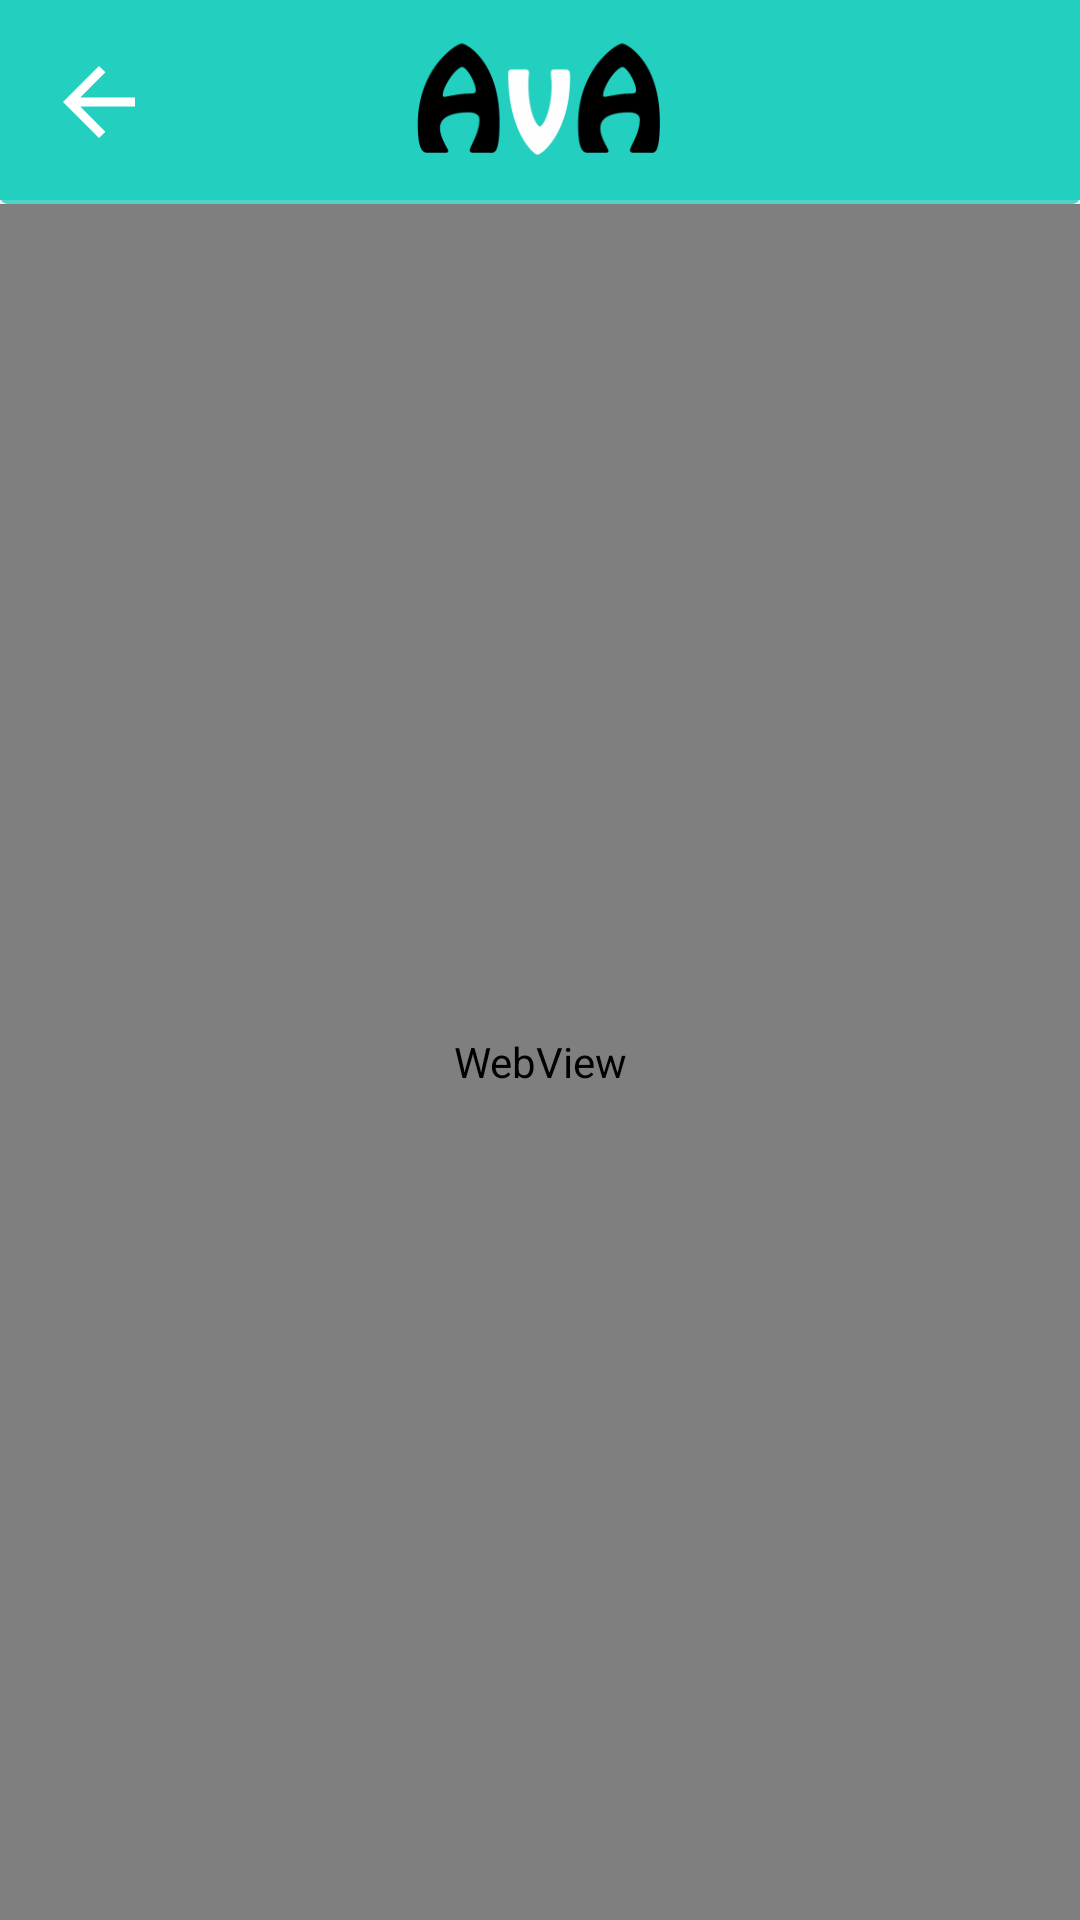

Where icons sit on this 1080*1920 app screen, as (x1, y1, x2, y2):
arrow back maincolor: (63, 66, 135, 138)
